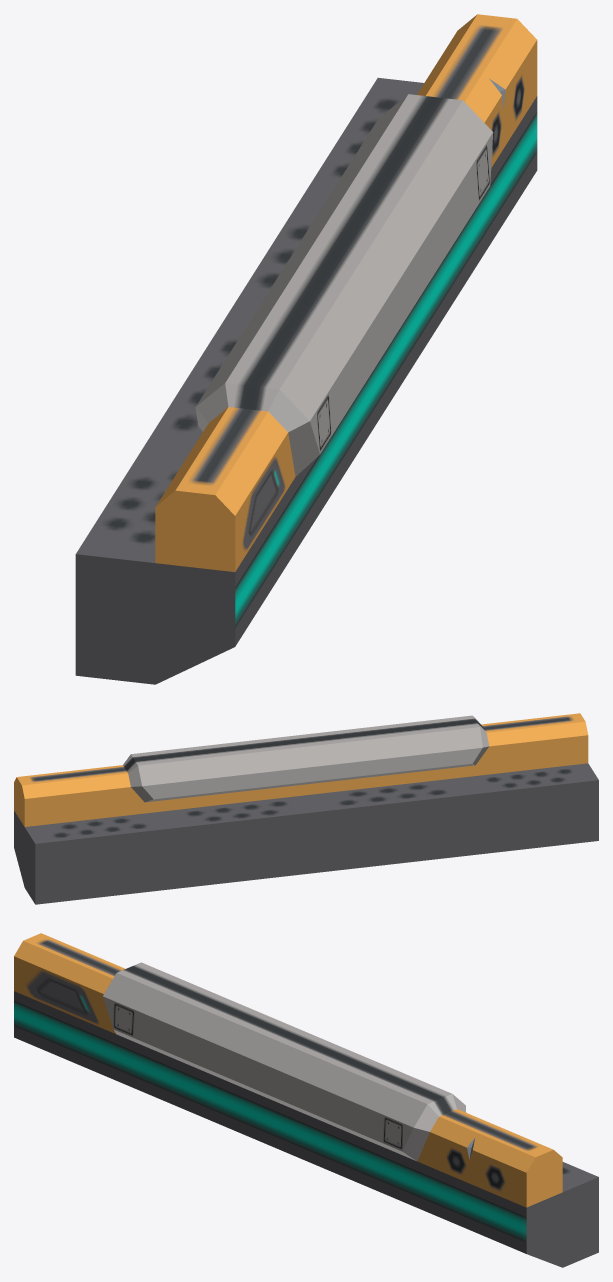
Rendered from SM_Bld_Railing_45_03.fbx.
3 renders of one model, top to bottom at view 1: azimuth 30°, elevation 25°; view 2: azimuth 150°, elevation 25°; view 3: azimuth 270°, elevation 25°, orthographic. The views are drawn at different scales.
Visible parts, largest first — view 1: SM_Bld_Railing_45_03; view 2: SM_Bld_Railing_45_03; view 3: SM_Bld_Railing_45_03.
Part boxes in pixels (bbox=[...]): SM_Bld_Railing_45_03: bbox=[75, 14, 537, 684]; SM_Bld_Railing_45_03: bbox=[14, 713, 598, 904]; SM_Bld_Railing_45_03: bbox=[14, 933, 598, 1267].
Size of the model in its own units: 285 by 71.18 by 285.
